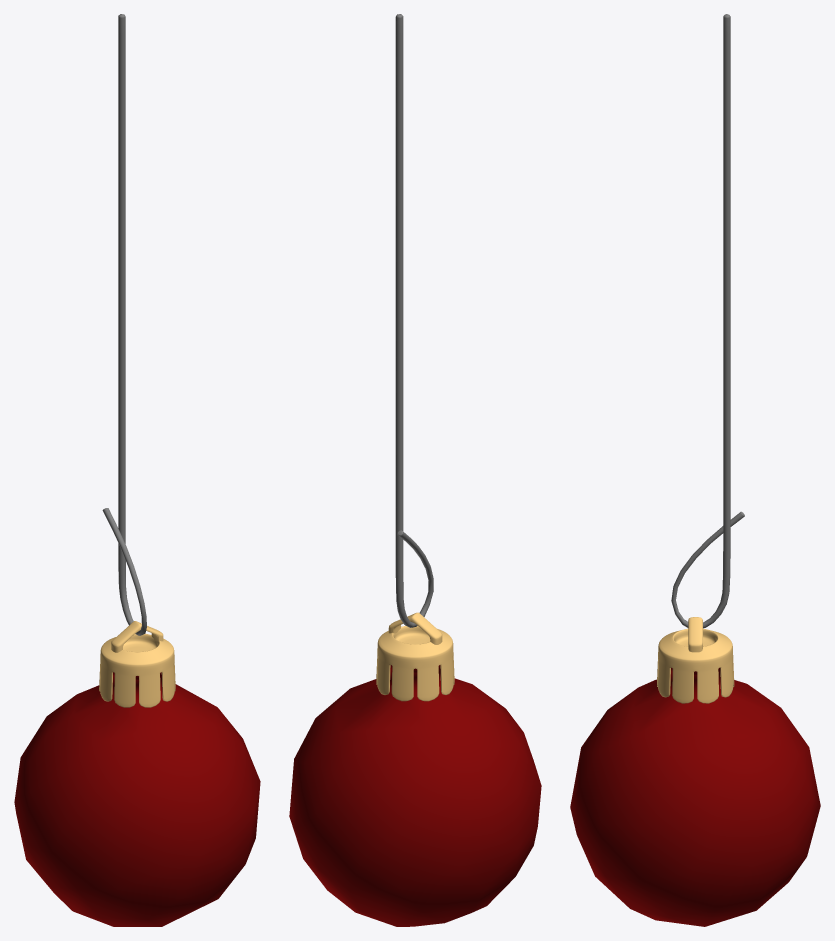
File: ornament.obj
3 views of the same model, side by side, from view 1: azimuth 30°, elevation 25°; view 2: azimuth 150°, elevation 25°; view 3: azimuth 270°, elevation 25° (orthographic). The views are drawn at different scales.
Parts seen in each view (by area): view 1: Ball1_Mesh, Wire1_Mesh.003, Cap1_Mesh.001, Hook1_Mesh.002; view 2: Ball1_Mesh, Wire1_Mesh.003, Cap1_Mesh.001, Hook1_Mesh.002; view 3: Ball1_Mesh, Wire1_Mesh.003, Cap1_Mesh.001.
Part boxes in pixels (box(x1,y1,x2,y2)): Ball1_Mesh: box(14, 672, 260, 926); Wire1_Mesh.003: box(102, 14, 146, 635); Cap1_Mesh.001: box(99, 633, 175, 707); Hook1_Mesh.002: box(111, 621, 163, 652); Ball1_Mesh: box(289, 665, 541, 926); Wire1_Mesh.003: box(395, 14, 433, 627); Cap1_Mesh.001: box(376, 625, 454, 701); Hook1_Mesh.002: box(388, 612, 442, 644); Ball1_Mesh: box(570, 667, 820, 926); Wire1_Mesh.003: box(671, 14, 744, 628); Cap1_Mesh.001: box(657, 628, 734, 703).
Bounding box in the file's own units: 0.0791 × 0.3151 × 0.0796.
